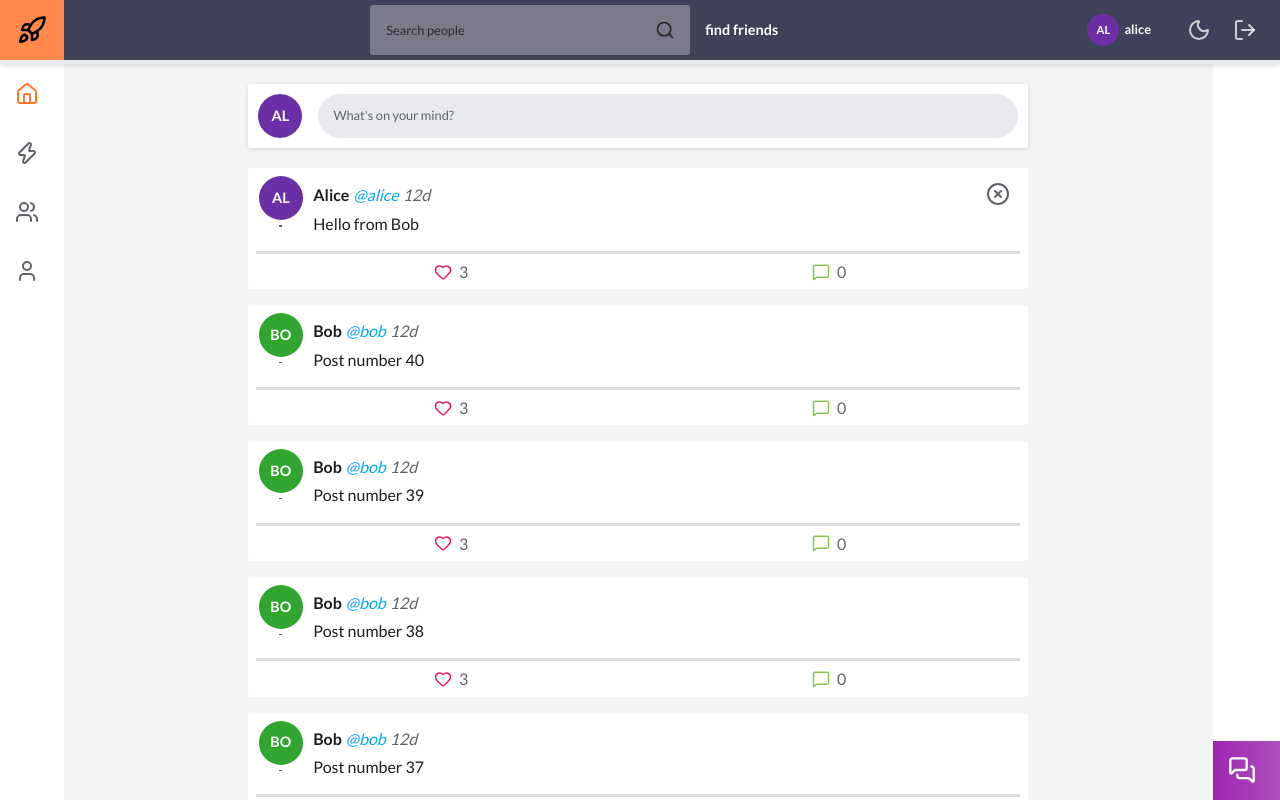
Test case: own posts › still offers older posts after deleting one from a full page
Step 1. Click the 4th button named "Delete post" → (998, 194), box [984,180,1012,209]
(page scrolled)
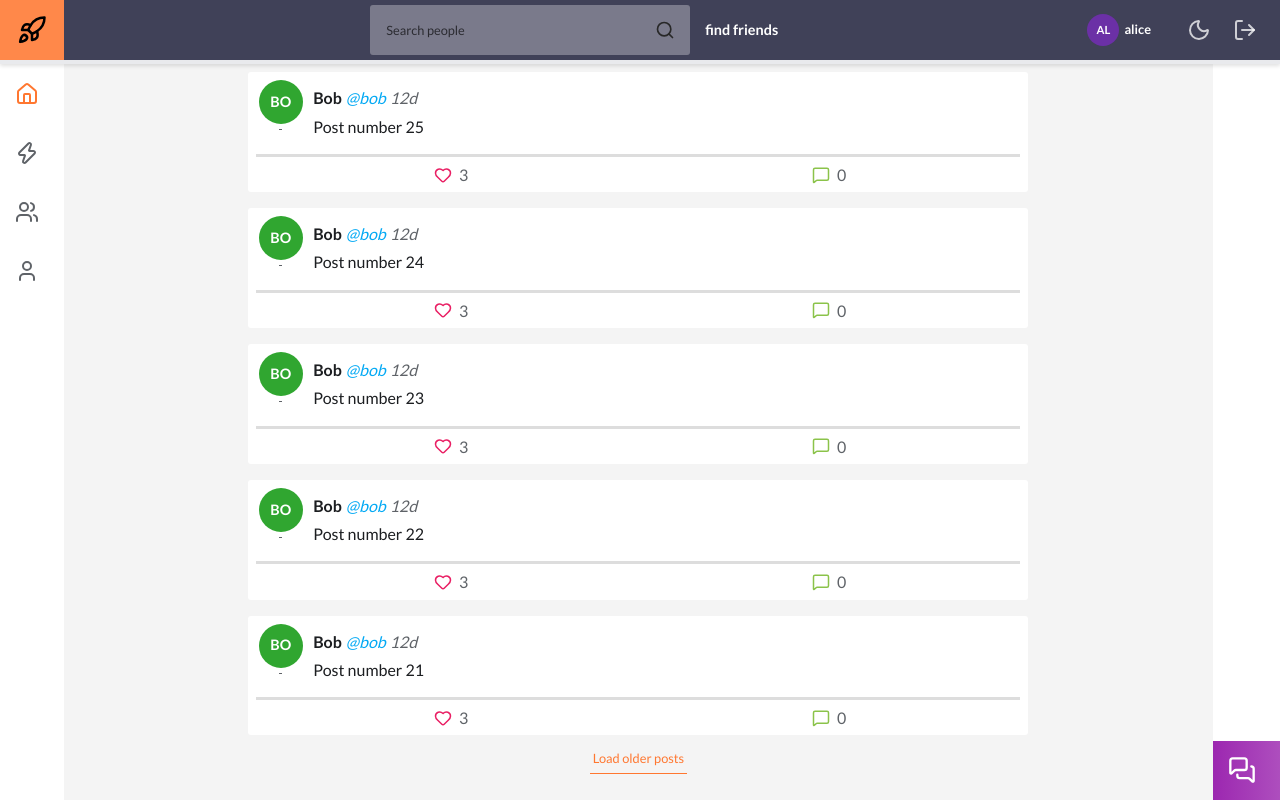
expect the button "Load older posts" is shown: met, box [590,745,687,774]
